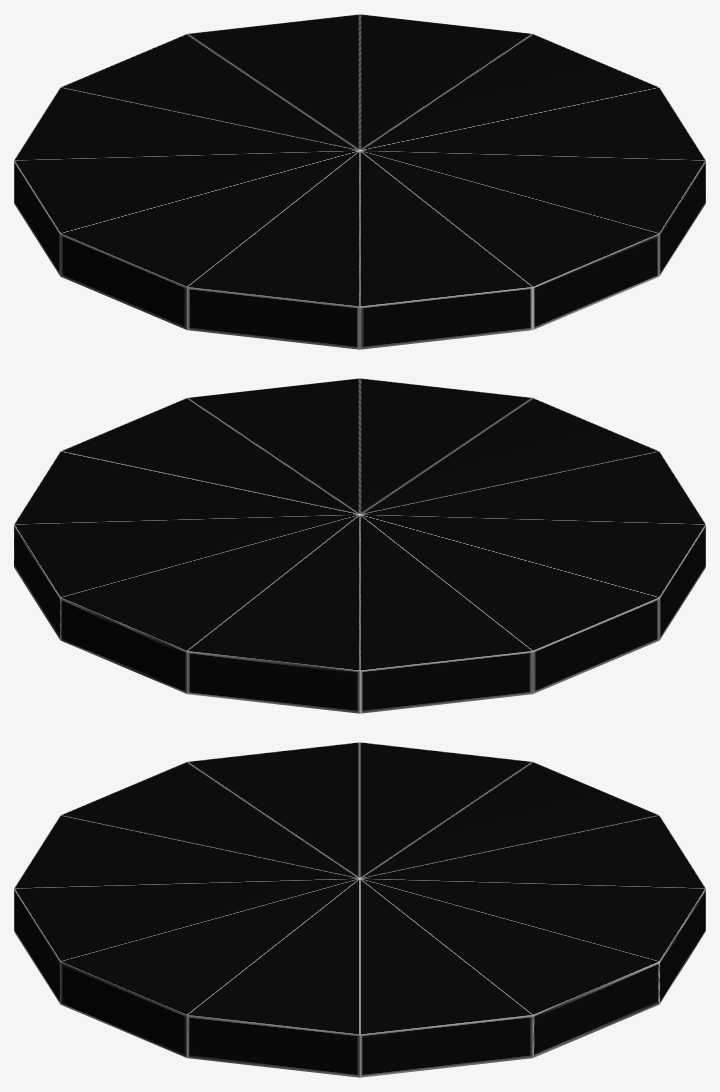
Rendered from manhole-cover.fbx.
3 views of the same model, one above another, from view 1: azimuth 30°, elevation 25°; view 2: azimuth 150°, elevation 25°; view 3: azimuth 270°, elevation 25° (orthographic).
Visible parts, largest first — view 1: manhole_cover; view 2: manhole_cover; view 3: manhole_cover.
Part boxes in pixels (x1,y1,x2,y2): manhole_cover: (14, 14, 705, 349); manhole_cover: (14, 378, 705, 713); manhole_cover: (14, 742, 705, 1077).
Bounding box in the file's own units: 0.4868 × 0.041 × 0.4868.
